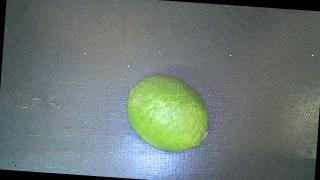EXPORTACION: (124, 73, 211, 154)
